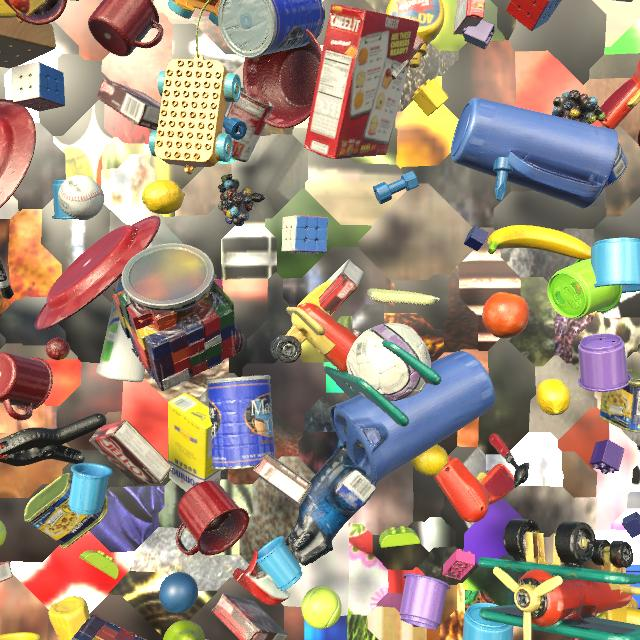ycb_002_master_chef_can: (206, 375, 275, 470), (218, 0, 325, 58)
ycb_003_cracker_box: (304, 4, 419, 159)
ycb_004_sugar_box: (168, 393, 221, 492)
ycb_005_tomato_soup_can: (222, 87, 274, 162)
ycb_006_mustard_bottle: (386, 0, 444, 68), (48, 596, 90, 640)
ycb_007_tuna_fish_can: (604, 143, 627, 188)
ycb_008_pudding_box: (89, 420, 173, 486), (211, 594, 288, 640), (97, 78, 161, 130), (253, 453, 312, 506), (319, 259, 365, 315), (391, 35, 425, 80)
ycb_009_gelatin_box: (453, 0, 485, 35), (0, 561, 13, 582)
ycb_010_potted_meat_can: (24, 473, 108, 549), (599, 369, 640, 432)
ycb_011_banana: (488, 225, 591, 260), (597, 607, 640, 625)
ycb_014_lemon: (142, 180, 185, 214), (536, 379, 570, 415), (411, 444, 448, 476)
ycb_016_pear: (163, 620, 205, 640)
ycb_017_orange: (482, 292, 529, 338)
ycb_018_plum: (235, 326, 244, 355)
